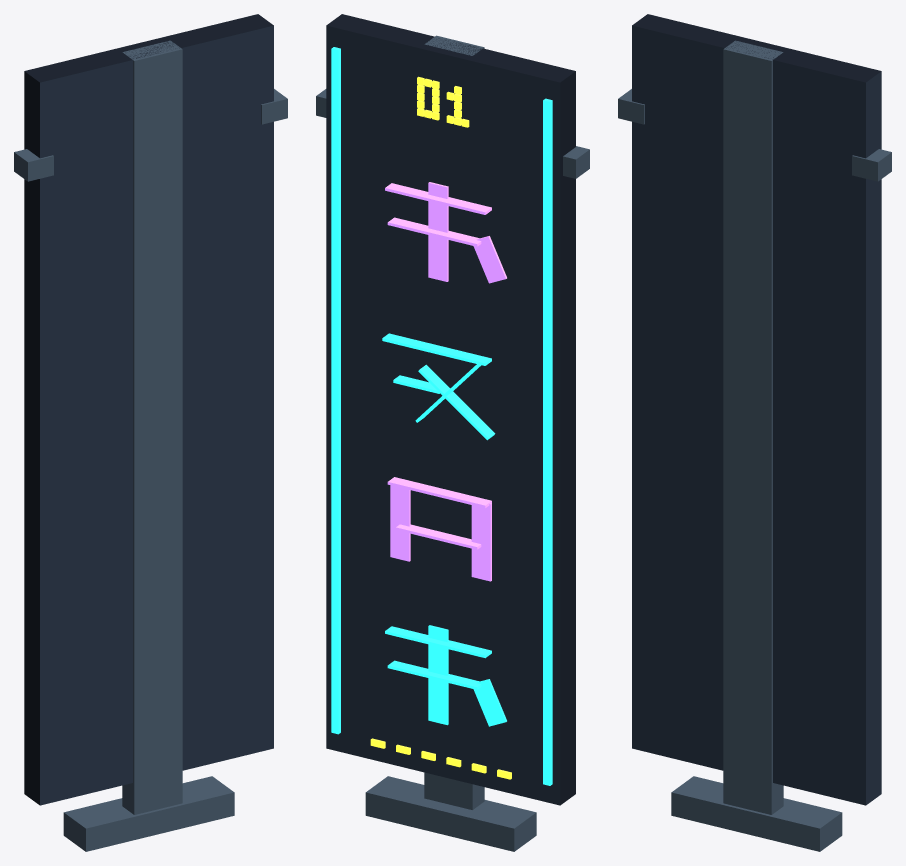
Rendered from prop-billboard-b-247388fc.glb.
3 renders of one model, left to right at view 1: azimuth 30°, elevation 25°; view 2: azimuth 150°, elevation 25°; view 3: azimuth 330°, elevation 25°, orthographic.
Visible parts, largest first — view 1: prop-billboard-b_body; view 2: prop-billboard-b_body; view 3: prop-billboard-b_body.
Part boxes in pixels (x1,y1,x2,y2): prop-billboard-b_body: (14, 14, 287, 851); prop-billboard-b_body: (316, 14, 589, 851); prop-billboard-b_body: (618, 14, 891, 851).
Size of the model in its own units: 7 by 20 by 1.2.
